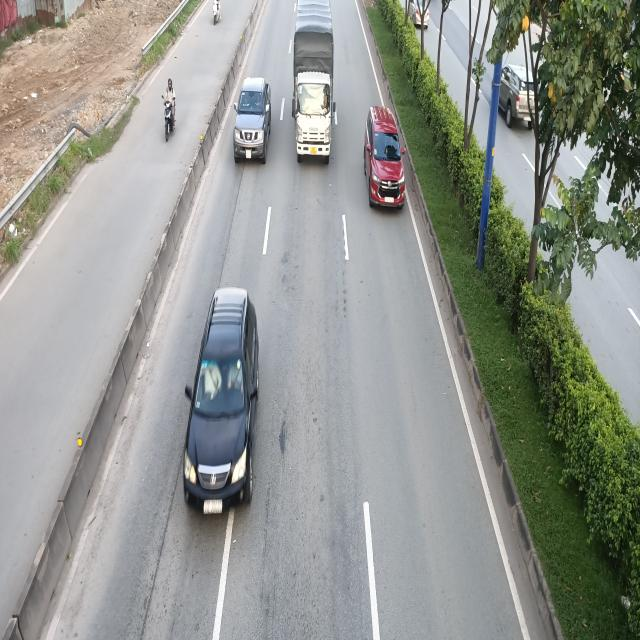car: (185, 286, 259, 513), (362, 105, 403, 212), (232, 75, 270, 164)
truck: (291, 0, 336, 163)
